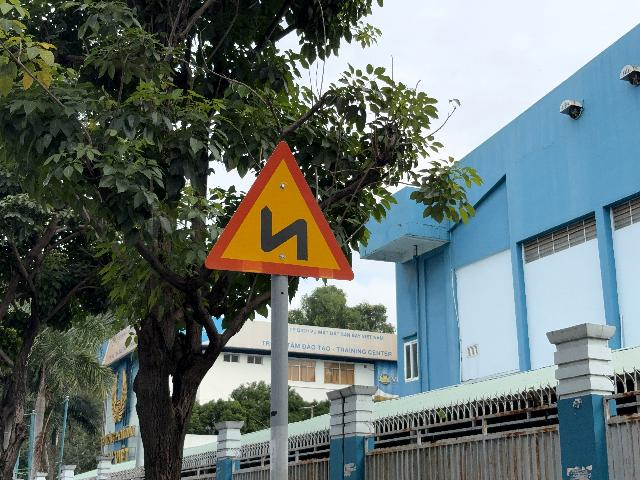nhieu-cho-ngoat-nguy-hiem-lien-tiep: (204, 141, 355, 281)
